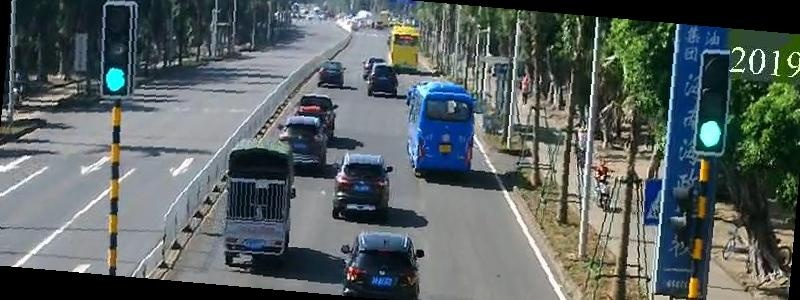green: (93, 61, 128, 93), (698, 121, 724, 151)
